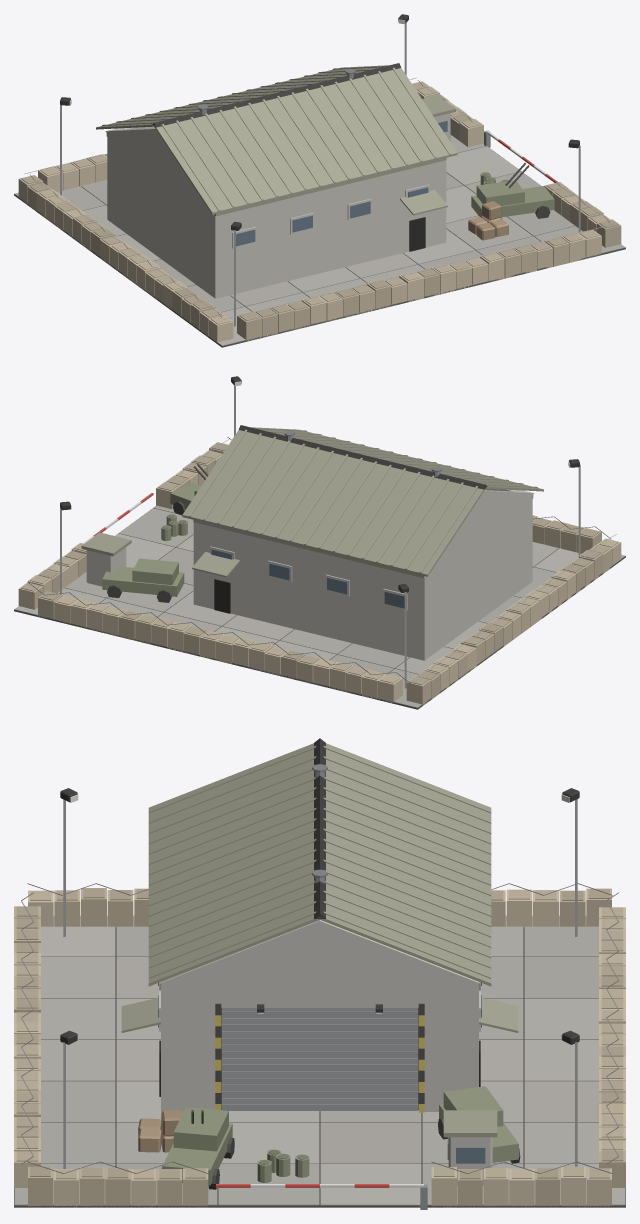
Rendered from b_jeepaa.glb.
3 views of the same model, one above another, from view 1: azimuth 30°, elevation 25°; view 2: azimuth 150°, elevation 25°; view 3: azimuth 270°, elevation 25° (orthographic). The views are drawn at different scales.
Parts seen in each view (by area): view 1: hull; view 2: hull; view 3: hull, door.
Part boxes in pixels (box(x1,y1,x2,y2)): hull: box(14, 14, 625, 347); hull: box(14, 376, 625, 709); hull: box(14, 738, 625, 1209); door: box(222, 1008, 417, 1111).
Bounding box in the file's own units: 28.2 × 9.55 × 25.
